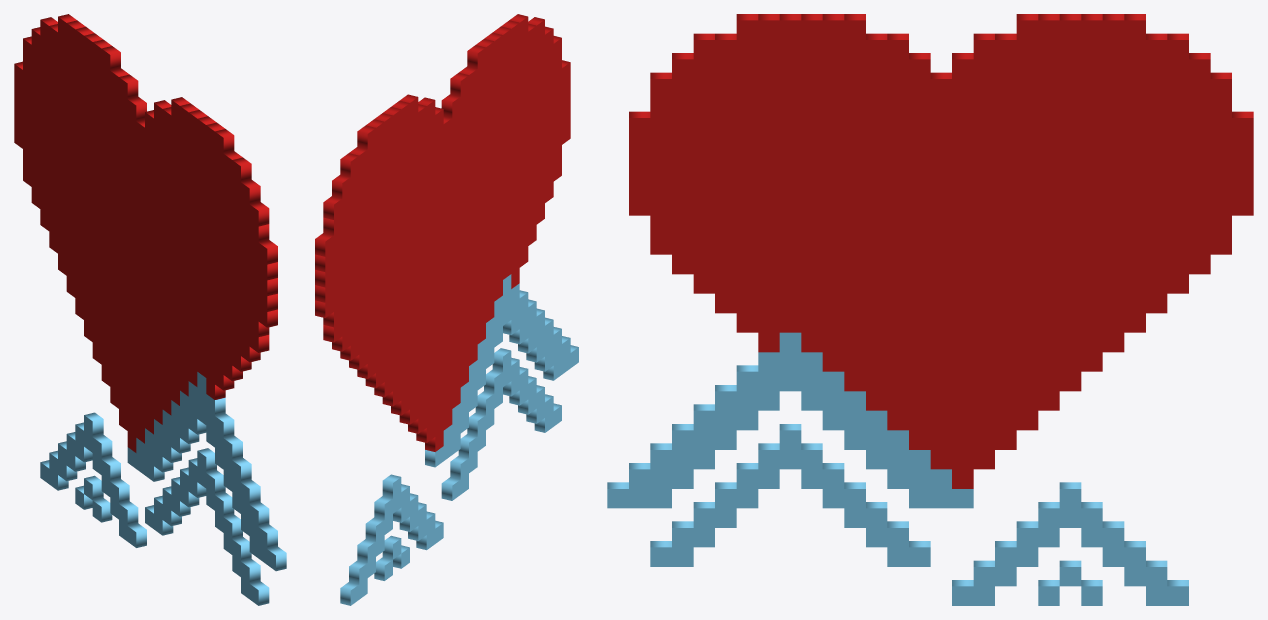
Rendered from HealthRegen.fbx.
The picture shows the model from 3 angles, left to right: view 1: azimuth 30°, elevation 25°; view 2: azimuth 150°, elevation 25°; view 3: azimuth 270°, elevation 25°; orthographic projection. The views are drawn at different scales.
Visible parts, largest first — view 1: Curve.001; view 2: Curve.001; view 3: Curve.001.
Boxes of the visible parts, left/top/right/bottom form: Curve.001: left=14, top=14, right=286, bottom=605; Curve.001: left=315, top=14, right=578, bottom=605; Curve.001: left=607, top=14, right=1253, bottom=605.
Size of the model in its own units: 2 by 84.65 by 84.67.
